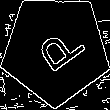P_SW: (25, 20, 85, 79)
